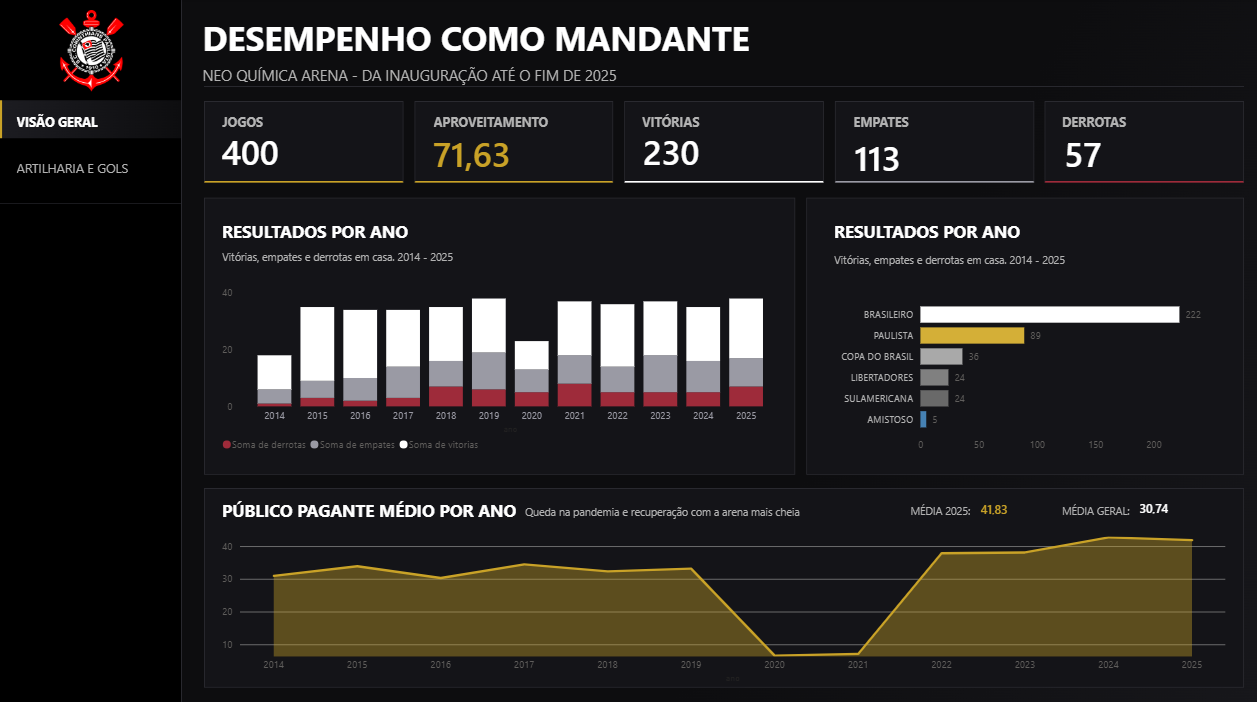

This screenshot's page, from the dashboard's own definition file:
{"tool":"powerbi","page":{"name":"Página 1","canvas":[1602,902],"ordinal":0},"visuals":[{"type":"textbox","box":[251.4,15.7,741.4,82.9],"z":0},{"type":"textbox","box":[252,79,693.3,40],"z":1000},{"type":"textbox","box":[17,140,200.8,33.3],"z":2000},{"type":"textbox","box":[17,199,201.4,37.1],"z":3000},{"type":"image","box":[58.6,15.7,115.7,102.9],"z":4000},{"type":"textbox","box":[276.2,139.4,145.6,42.2],"z":5000},{"type":"textbox","box":[543.2,139.4,181.4,42.9],"z":6000},{"type":"textbox","box":[807,139.4,145.6,42.2],"z":7000},{"type":"textbox","box":[1073.9,139.4,145.6,42.2],"z":8000},{"type":"textbox","box":[1338.5,139.4,145.6,42.2],"z":9000},{"type":"cardVisual","fields":{"Data":["Sum(public vw_desempenho_geral.jogos)"]},"box":[252.2,150,145.6,85.6],"z":10000},{"type":"cardVisual","fields":{"Data":["Sum(public vw_desempenho_geral.aproveitamento)"]},"box":[520,150.9,176.7,85],"z":11000},{"type":"cardVisual","fields":{"Data":["Sum(public vw_desempenho_geral.vitorias)"]},"box":[785.5,150,176.7,85],"z":12000},{"type":"cardVisual","fields":{"Data":["Sum(public vw_desempenho_geral.empates)"]},"box":[1051.8,156.4,176.7,85],"z":13000},{"type":"cardVisual","fields":{"Data":["Sum(public vw_desempenho_geral.derrotas)"]},"box":[1317.7,150.8,176.7,85],"z":14000},{"type":"textbox","box":[276.7,275,321.7,48.3],"z":15000},{"type":"textbox","box":[276.4,313.6,405,35],"z":16000},{"type":"columnChart","fields":{"Category":["public vw_resultados_por_ano.ano"],"Y":["Sum(public vw_resultados_por_ano.derrotas)","Sum(public vw_resultados_por_ano.empates)","Sum(public vw_resultados_por_ano.vitorias)"]},"box":[276.7,358.9,715.6,224.4],"z":17000},{"type":"textbox","box":[1050,275.5,338.3,48.3],"z":18000},{"type":"textbox","box":[1050,316.7,420,32.2],"z":19000},{"type":"clusteredBarChart","fields":{"Category":["public vw_jogos_por_campeonato.campeonato"],"Y":["Sum(public vw_jogos_por_campeonato.count)"]},"box":[1052.2,366.7,482.2,216.7],"z":20000},{"type":"stackedAreaChart","fields":{"Category":["public vw_publico_medio_por_ano.ano"],"Y":["Sum(public vw_publico_medio_por_ano.publico_pagante)"]},"box":[276.2,667.5,1277.5,202.5],"z":21000},{"type":"textbox","box":[276.7,627.8,471.1,48.9],"z":22000},{"type":"textbox","box":[660,634.4,365.5,35.5],"z":23000},{"type":"textbox","box":[1146.7,633.3,120,49.2],"z":24000},{"type":"textbox","box":[1338.8,632.5,120,35],"z":25000},{"type":"cardVisual","fields":{"Data":["public vw_publico_medio_por_ano.Média 2025"]},"box":[1211.4,620,105.7,50],"z":26000},{"type":"cardVisual","fields":{"Data":["Avg(public vw_publico_medio_por_ano.publico_pagante)"]},"box":[1411.2,620.6,106.2,49.4],"z":27000}]}

Visuals, with their boxes in screenshot pixels (x1, y1, x2, y2), scaled from the page's 1602x902 canvas onto the 1257x702 screenshot:
textbox: x1=197 y1=12 x2=779 y2=77
textbox: x1=198 y1=61 x2=742 y2=93
textbox: x1=13 y1=109 x2=171 y2=135
textbox: x1=13 y1=155 x2=171 y2=184
image: x1=46 y1=12 x2=137 y2=92
textbox: x1=217 y1=108 x2=331 y2=141
textbox: x1=426 y1=108 x2=569 y2=142
textbox: x1=633 y1=108 x2=747 y2=141
textbox: x1=843 y1=108 x2=957 y2=141
textbox: x1=1050 y1=108 x2=1164 y2=141
cardVisual - Sum(public vw_desempenho_geral.jogos): x1=198 y1=117 x2=312 y2=183
cardVisual - Sum(public vw_desempenho_geral.aproveitamento): x1=408 y1=117 x2=547 y2=184
cardVisual - Sum(public vw_desempenho_geral.vitorias): x1=616 y1=117 x2=755 y2=183
cardVisual - Sum(public vw_desempenho_geral.empates): x1=825 y1=122 x2=964 y2=188
cardVisual - Sum(public vw_desempenho_geral.derrotas): x1=1034 y1=117 x2=1173 y2=184
textbox: x1=217 y1=214 x2=470 y2=252
textbox: x1=217 y1=244 x2=535 y2=271
columnChart - public vw_resultados_por_ano.ano x Sum(public vw_resultados_por_ano.derrotas): x1=217 y1=279 x2=779 y2=454
textbox: x1=824 y1=214 x2=1089 y2=252
textbox: x1=824 y1=246 x2=1153 y2=272
clusteredBarChart - public vw_jogos_por_campeonato.campeonato x Sum(public vw_jogos_por_campeonato.count): x1=826 y1=285 x2=1204 y2=454
stackedAreaChart - public vw_publico_medio_por_ano.ano x Sum(public vw_publico_medio_por_ano.publico_pagante): x1=217 y1=519 x2=1219 y2=677
textbox: x1=217 y1=489 x2=587 y2=527
textbox: x1=518 y1=494 x2=805 y2=521
textbox: x1=900 y1=493 x2=994 y2=531
textbox: x1=1050 y1=492 x2=1145 y2=519
cardVisual - public vw_publico_medio_por_ano.Média 2025: x1=951 y1=483 x2=1033 y2=521
cardVisual - Avg(public vw_publico_medio_por_ano.publico_pagante): x1=1107 y1=483 x2=1191 y2=521
